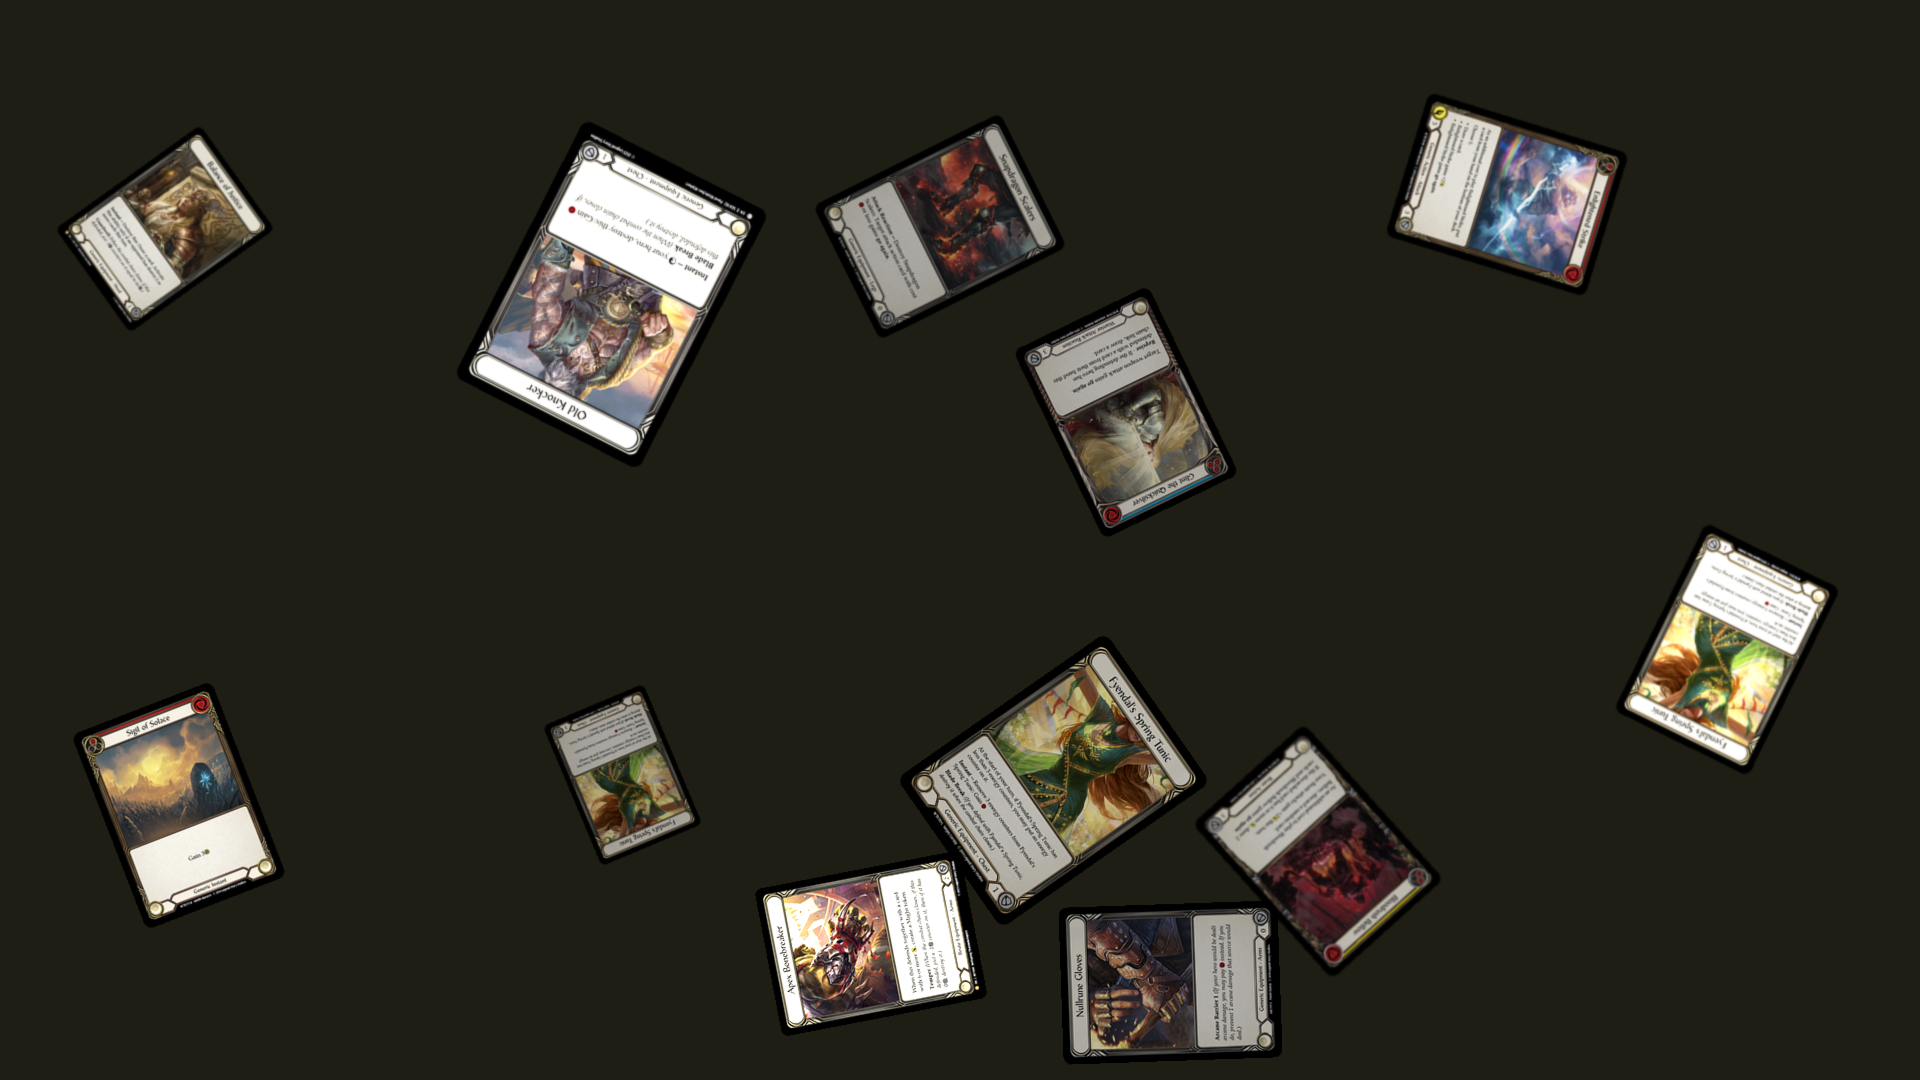Apex_Bonebreaker_HVY008: (754, 851, 988, 1036)
Balance_of_Justice_HVY195: (55, 125, 276, 334)
Bloodrush_Bellow_WTR007: (1192, 723, 1444, 980)
Enlightened_Strike_WTR159: (1385, 92, 1629, 297)
Fyendals_Spring_Tunic_WTR150: (895, 632, 1211, 928), (1613, 522, 1841, 777), (542, 683, 703, 866)
Glint_the_Quicksilver_WTR118: (1011, 285, 1240, 539)
Nullrune_Gloves_ARC157: (1058, 899, 1283, 1065)
Old_Knocker_SEA182: (454, 117, 770, 471)
Sigil_of_Solace_WTR173: (71, 680, 287, 931)
Snapdragon_Scalers_WTR154: (814, 112, 1067, 342)
